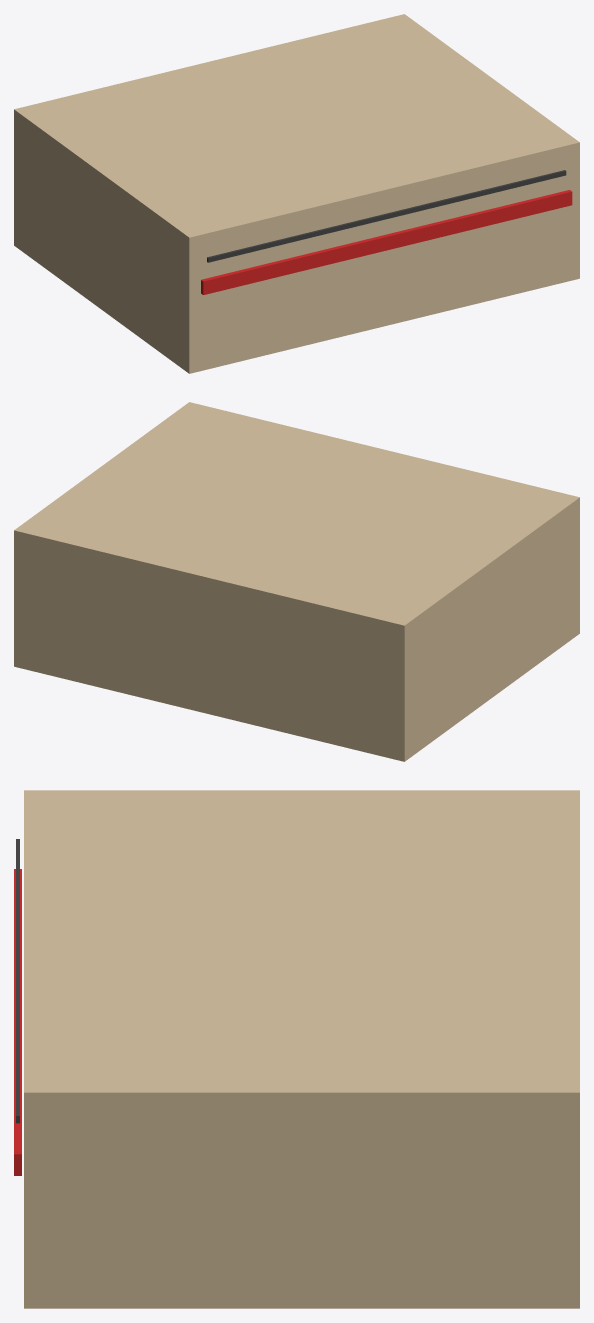
File: EcommerceBox.glb
The picture shows the model from 3 angles, top to bottom: view 1: azimuth 30°, elevation 25°; view 2: azimuth 150°, elevation 25°; view 3: azimuth 270°, elevation 25°; orthographic projection. The views are drawn at different scales.
Visible parts, largest first — view 1: EcommerceLid, EcommerceTray, AdhesiveTapeStrip, ZipperRipcord; view 2: EcommerceTray, EcommerceLid; view 3: EcommerceLid, EcommerceTray, AdhesiveTapeStrip, ZipperRipcord.
Boxes of the visible parts, box(x1,y1,x2,y2) form: EcommerceLid: box(14, 14, 579, 310); EcommerceTray: box(14, 109, 579, 373); AdhesiveTapeStrip: box(201, 190, 572, 294); ZipperRipcord: box(207, 170, 566, 262); EcommerceTray: box(14, 497, 579, 761); EcommerceLid: box(14, 402, 579, 625); EcommerceLid: box(24, 790, 579, 1092); EcommerceTray: box(24, 1092, 579, 1308); AdhesiveTapeStrip: box(14, 869, 21, 1175); ZipperRipcord: box(16, 839, 19, 1123).
Size of the model in its own units: 3.6 by 1.2 by 2.85.
